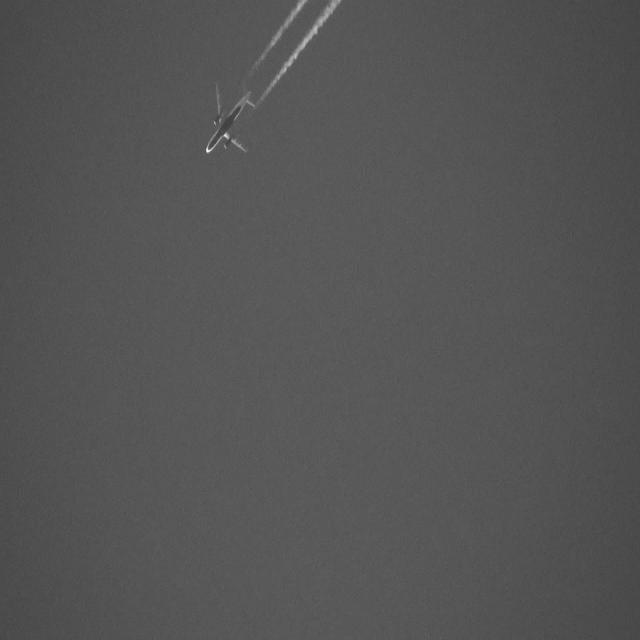aeroplane: (202, 71, 258, 167)
